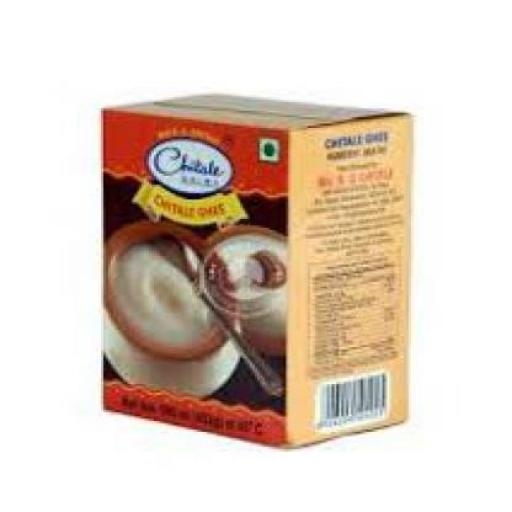cardboard: (101, 93, 406, 447)
